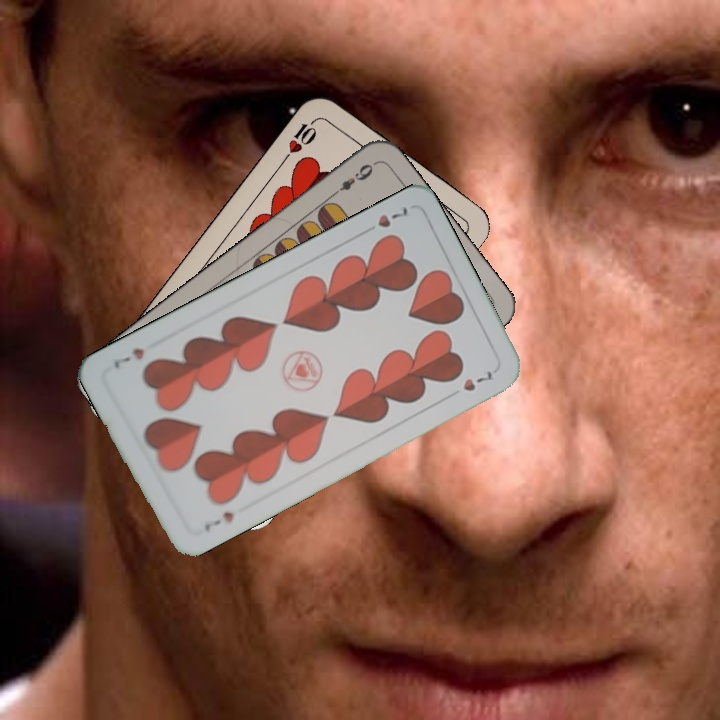E9: (327, 159, 378, 199)
H10: (279, 114, 321, 164)
H7: (358, 202, 410, 237), (200, 507, 236, 534)
